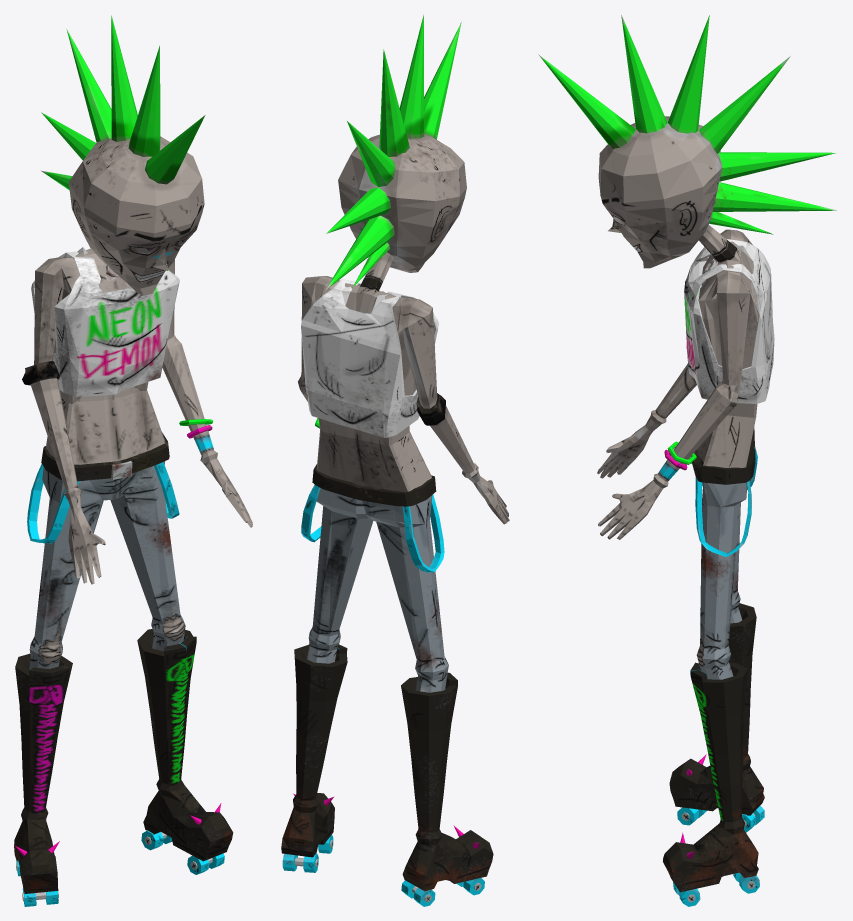
The model's file is punkAnimation_000033.obj.
3 renders of one model, left to right at view 1: azimuth 30°, elevation 25°; view 2: azimuth 150°, elevation 25°; view 3: azimuth 270°, elevation 25°, orthographic. The views are drawn at different scales.
Visible parts, largest first — view 1: Cube.004_Cube.003; view 2: Cube.004_Cube.003; view 3: Cube.004_Cube.003.
Part boxes in pixels (x1,y1,x2,y2): Cube.004_Cube.003: (14,15,252,906); Cube.004_Cube.003: (281,14,509,906); Cube.004_Cube.003: (538,15,837,906).
Size of the model in its own units: 1.85 by 7.52 by 2.42.
